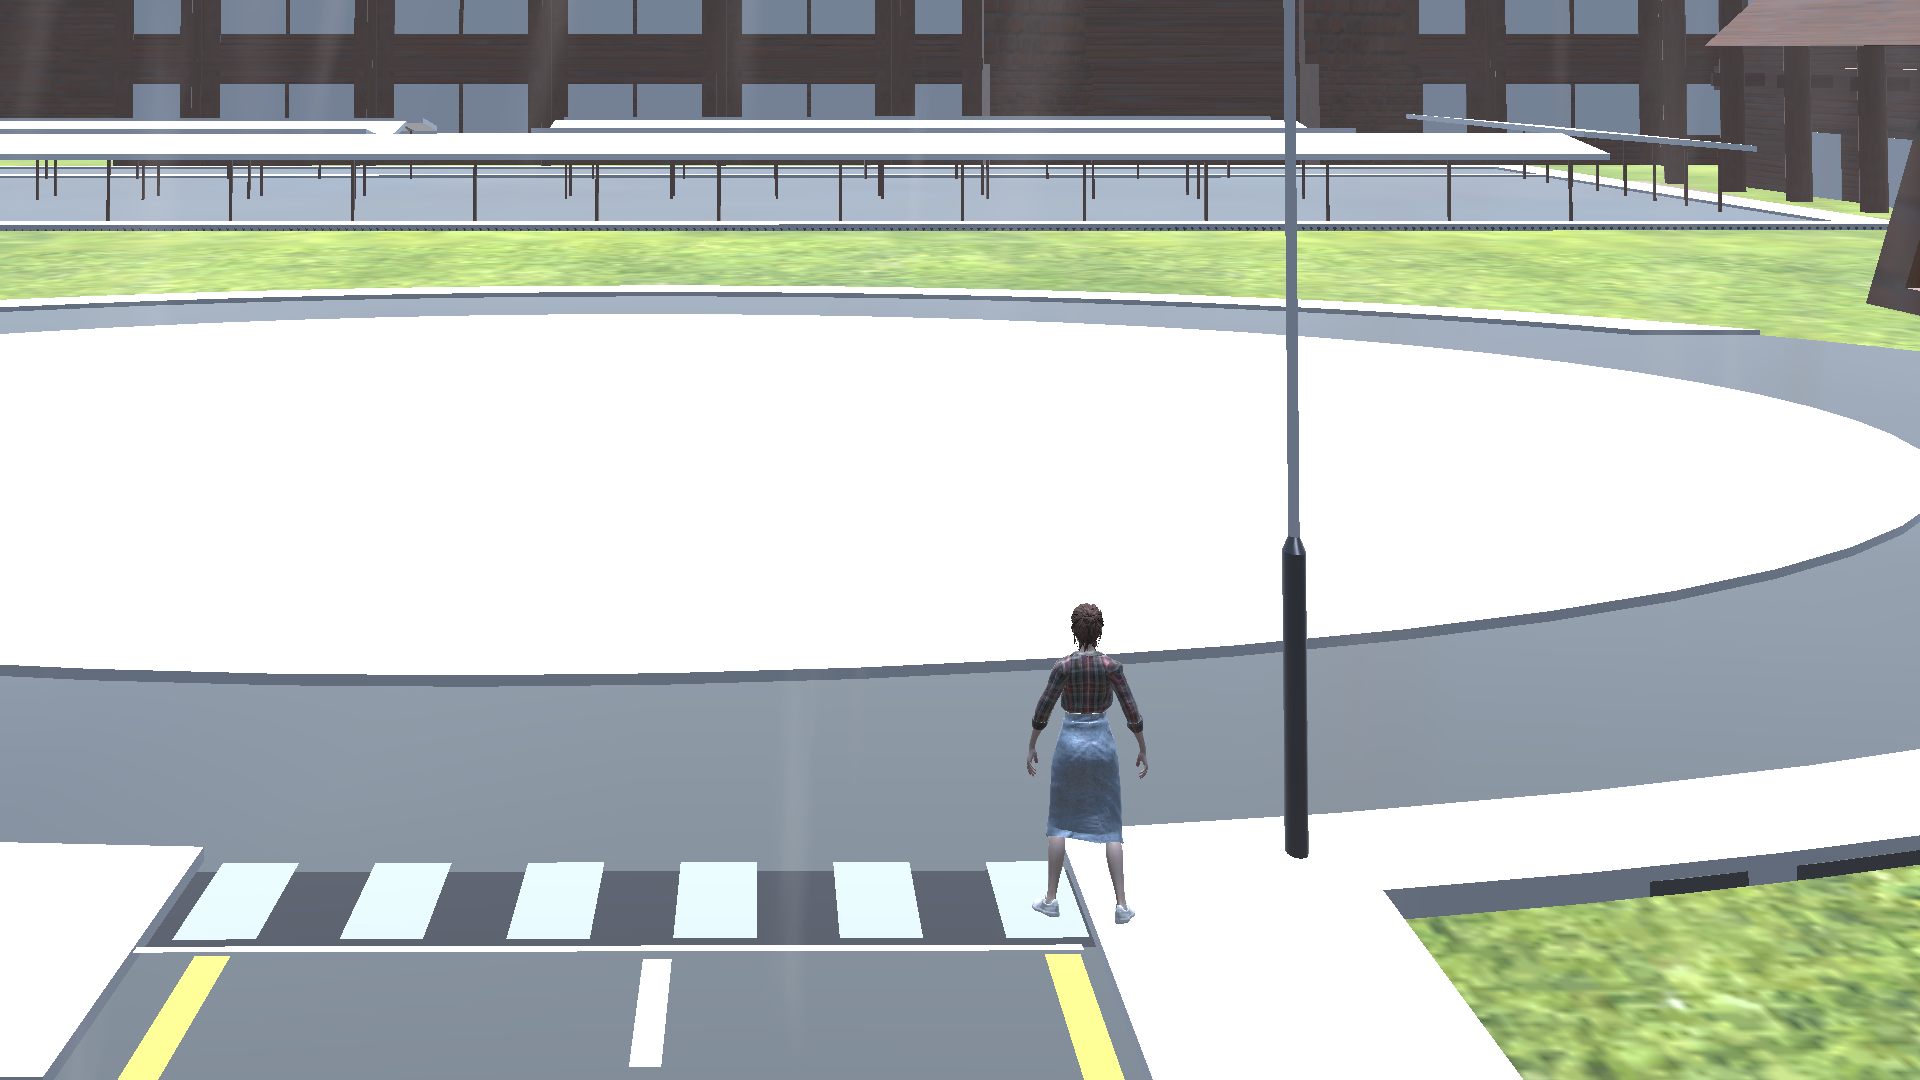pedestrian: (1010, 597, 1149, 926)
